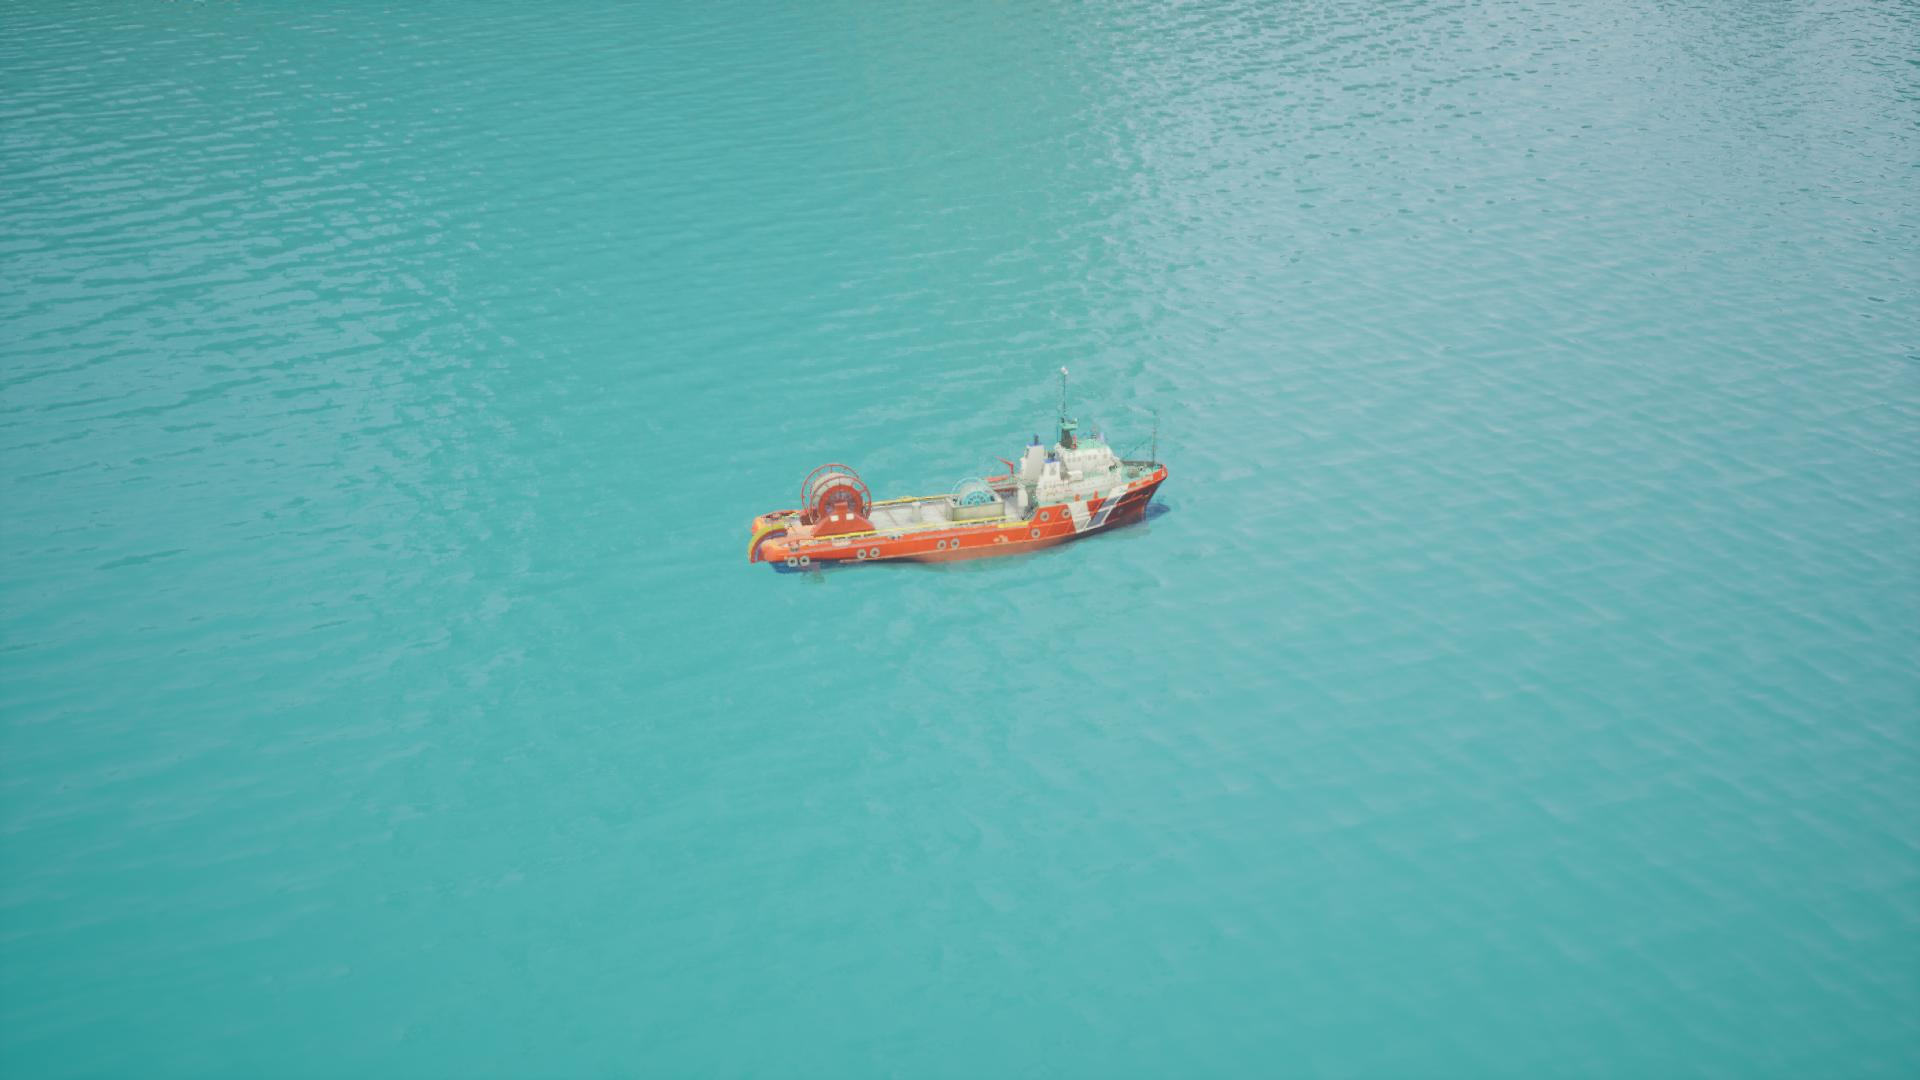Tug Boat: (742, 427, 1167, 575)
